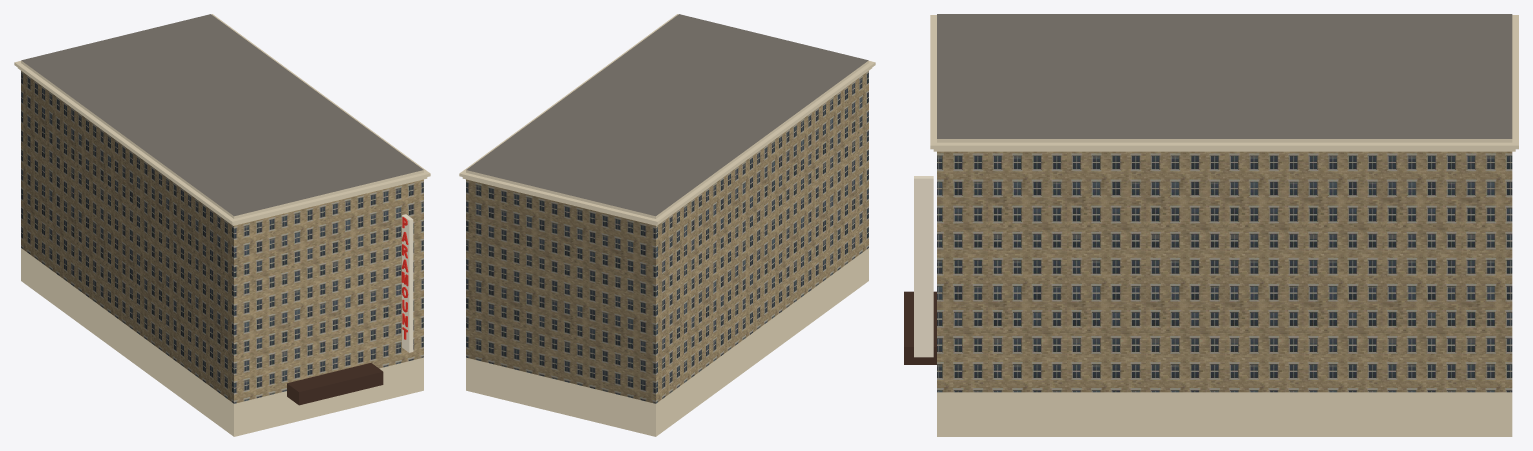
The model's file is paramount_theatre.glb.
3 views of the same model, side by side, from view 1: azimuth 30°, elevation 25°; view 2: azimuth 150°, elevation 25°; view 3: azimuth 270°, elevation 25° (orthographic). The views are drawn at different scales.
Parts seen in each view (by area): view 1: paramount_theatre; view 2: paramount_theatre; view 3: paramount_theatre.
Part boxes in pixels (x1,y1,x2,y2): paramount_theatre: [14, 14, 430, 436]; paramount_theatre: [459, 14, 875, 436]; paramount_theatre: [904, 14, 1518, 436].
Size of the model in its own units: 37.6 by 40 by 74.8.
2 materials, 2 textured.
